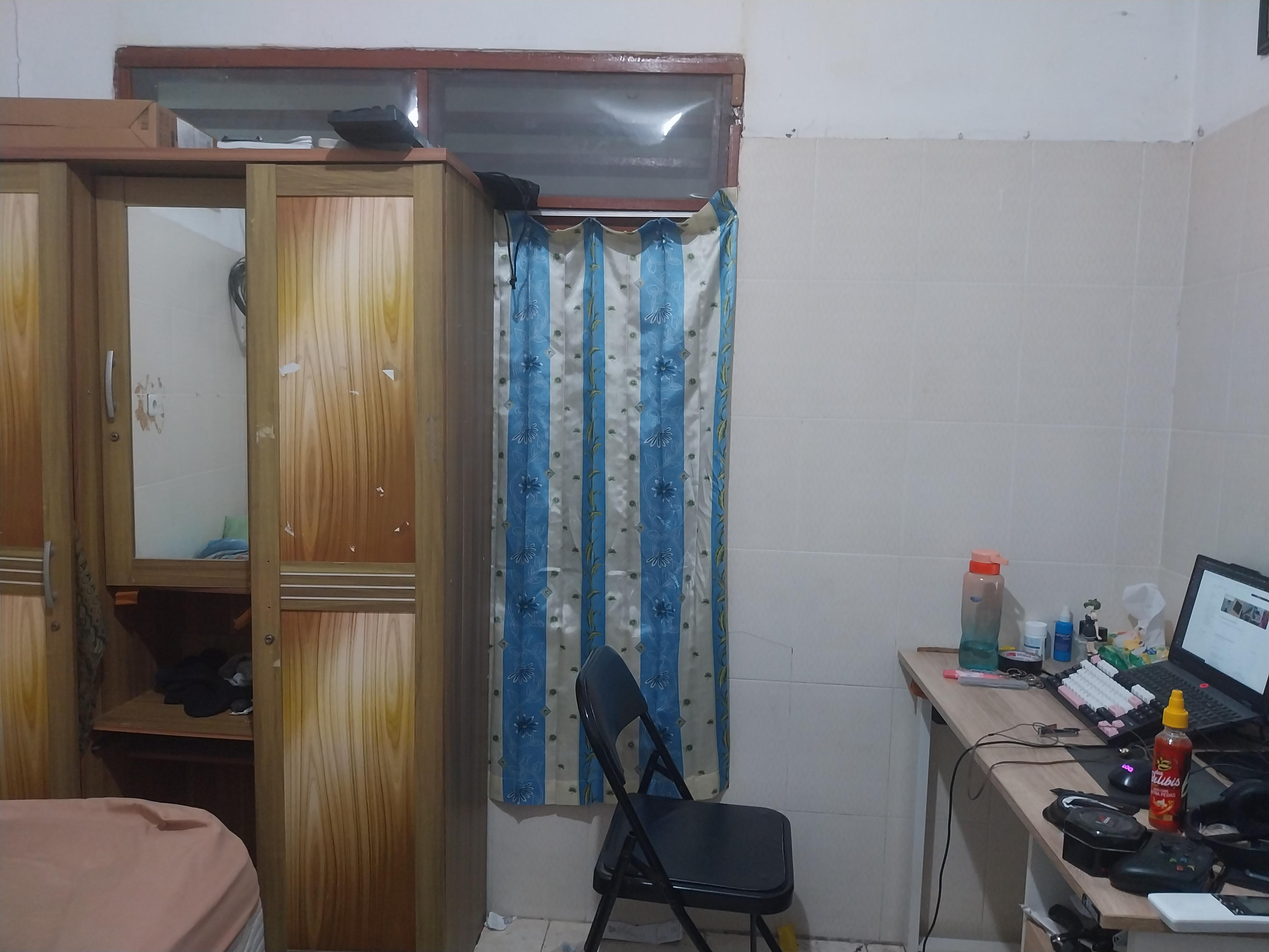bed: (0, 798, 266, 952)
cabinet-merged: (0, 147, 497, 952)
chair: (573, 639, 797, 952)
curtain: (488, 185, 739, 808)
keyboard: (1040, 632, 1175, 764), (326, 98, 438, 149)
laptop: (1111, 538, 1269, 766)
